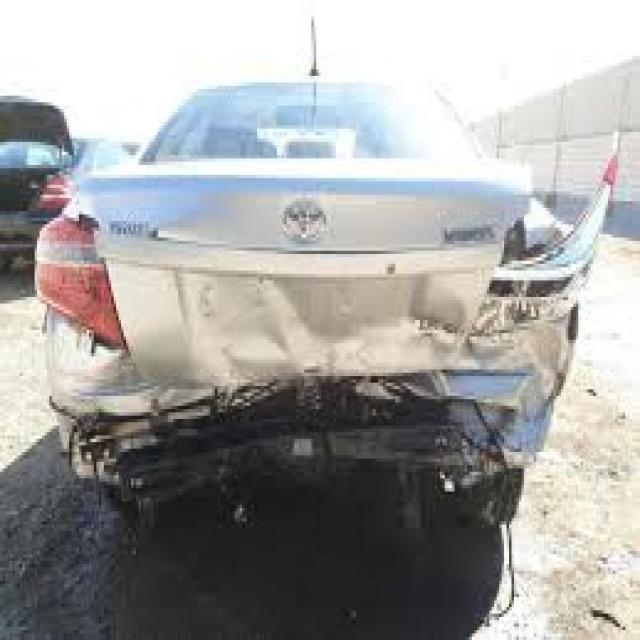damaged-trunk: (70, 170, 520, 382)
